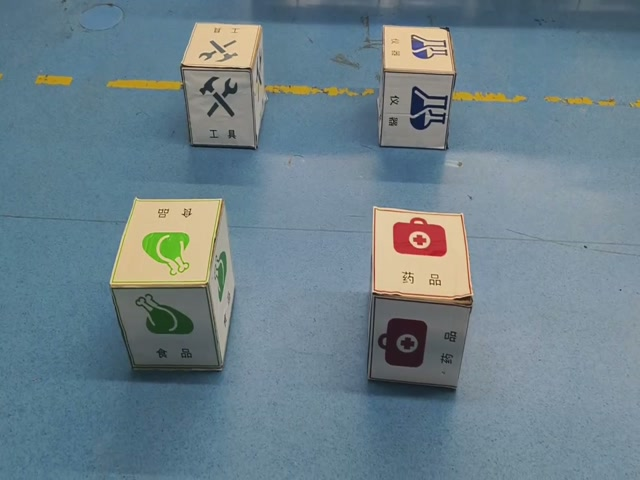Cube_food: (108, 196, 223, 290), (183, 19, 261, 73)
